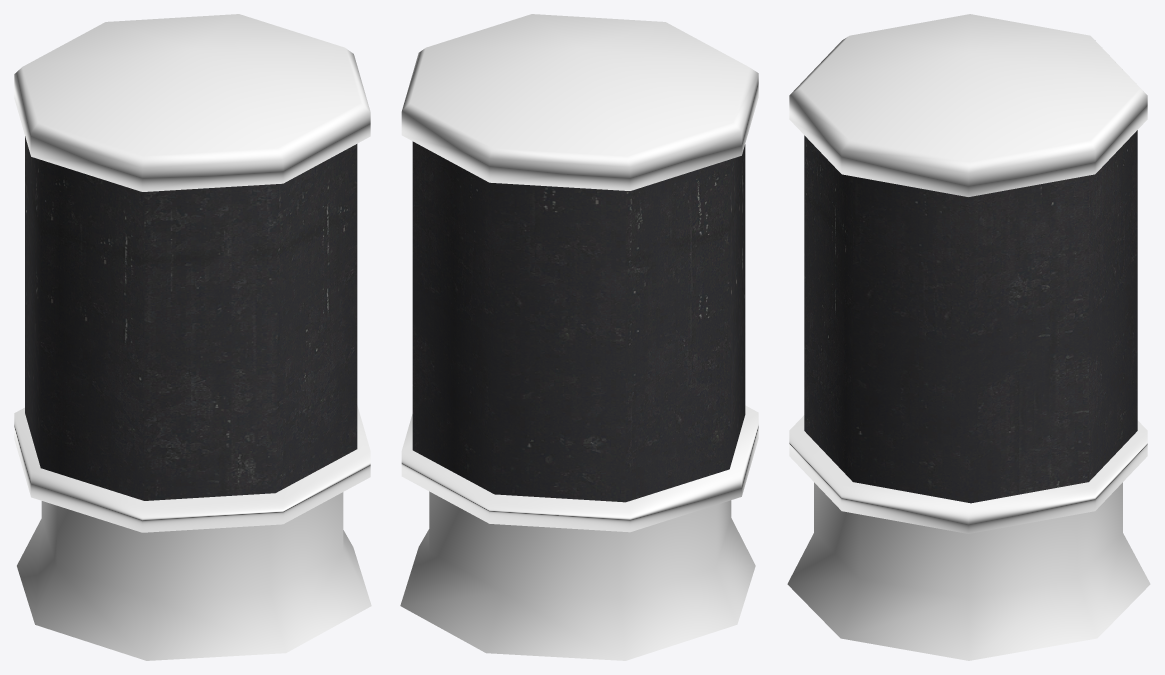
File: showcase.fbx
3 views of the same model, side by side, from view 1: azimuth 30°, elevation 25°; view 2: azimuth 150°, elevation 25°; view 3: azimuth 270°, elevation 25° (orthographic).
Visible parts, largest first — view 1: showcase; view 2: showcase; view 3: showcase.
Part boxes in pixels (x1,y1,x2,y2): showcase: [14, 14, 371, 660]; showcase: [400, 14, 758, 660]; showcase: [787, 14, 1150, 660].
Size of the model in its own units: 139 by 221 by 137.
